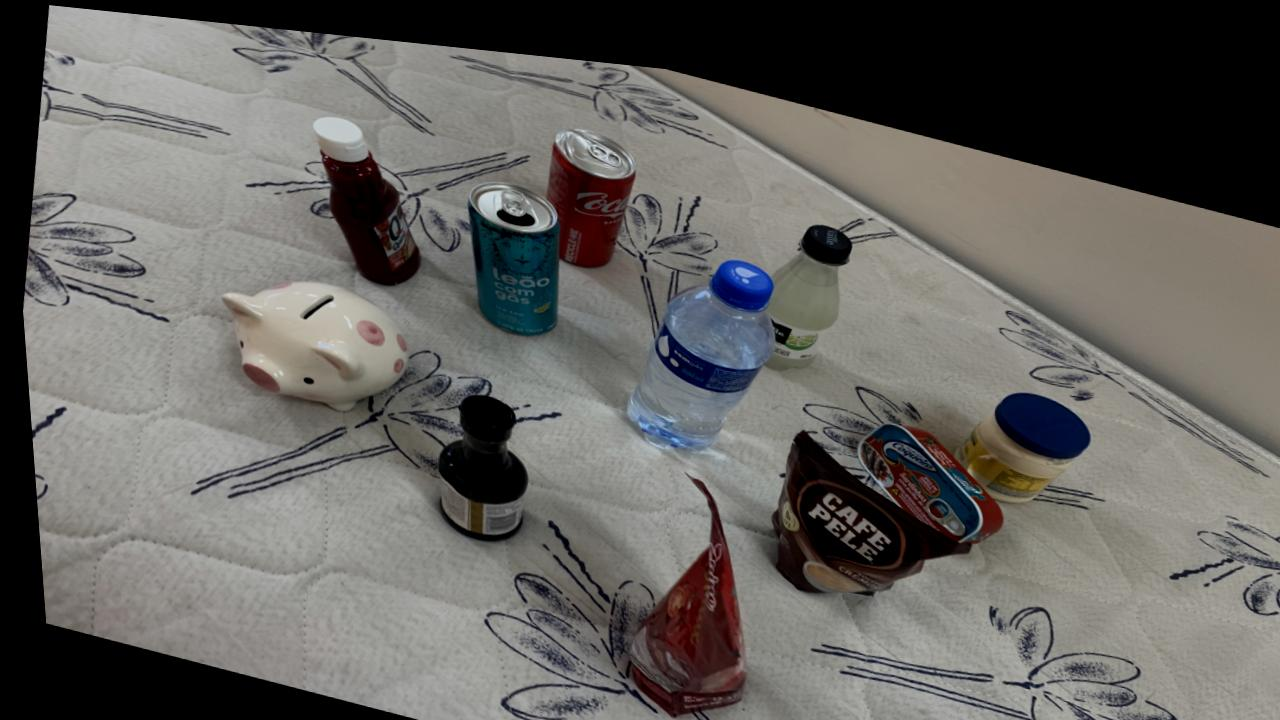Coffee-Pantry_Items: (764, 413, 963, 577)
Coke-Drinks: (544, 115, 634, 255)
English_Sauce-Pantry_Items: (431, 384, 521, 531)
Ketchup-Pantry_Items: (311, 109, 417, 277)
Mayonnaise-Pantry_Items: (952, 370, 1085, 482)
Pig_Safe-Miscellaneous: (218, 275, 403, 404)
Soda-Drinks: (762, 206, 851, 353)
Tea-Drinks: (465, 170, 557, 324)
Tomato_Sauce-Pantry_Items: (620, 464, 736, 702)
Tuna_Can-Pantry_Items: (852, 404, 997, 522)
Water_Bottle-Drinks: (621, 243, 770, 434)
